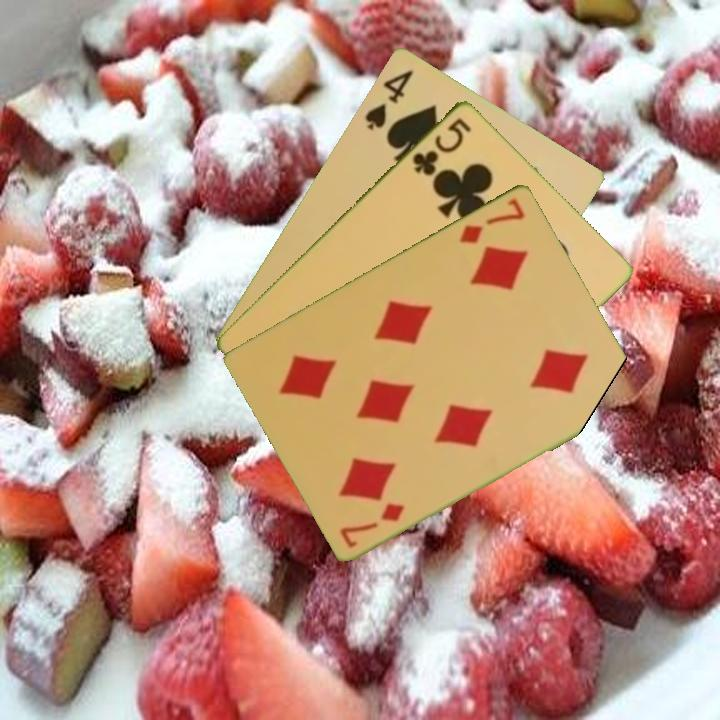4s: (361, 65, 416, 133)
5c: (409, 113, 474, 178)
7d: (456, 194, 528, 247), (336, 498, 408, 551)
